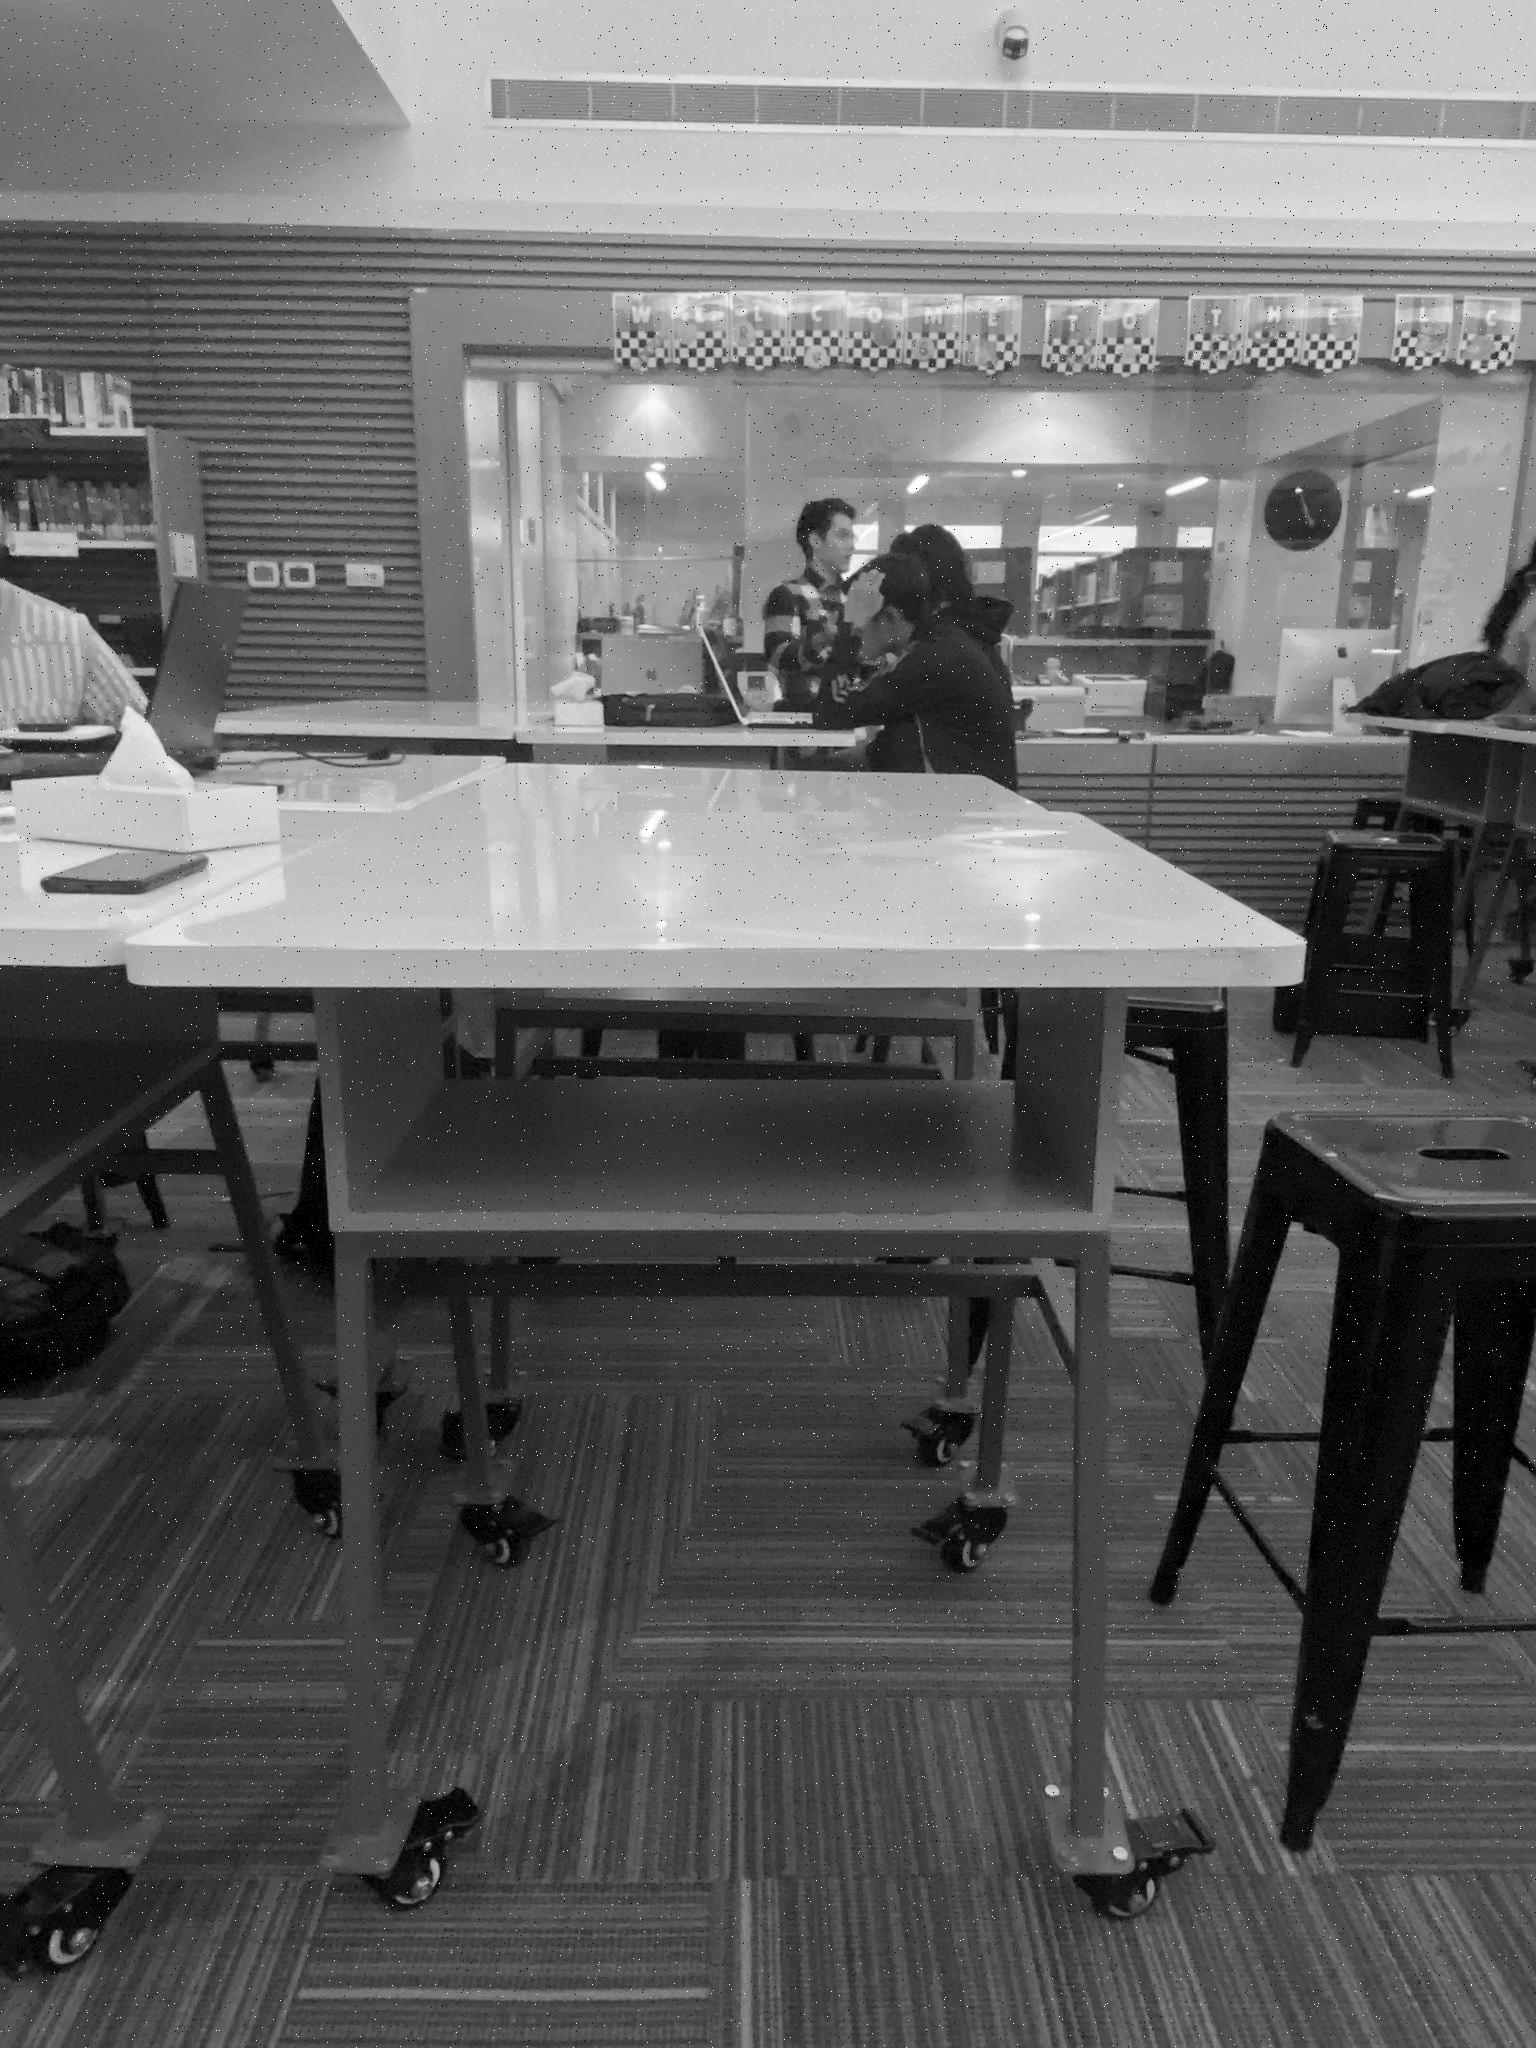Chair: (1149, 1113, 1534, 1851), (1273, 829, 1452, 1076)
Table: (0, 703, 1300, 1901), (0, 1453, 157, 1966)
